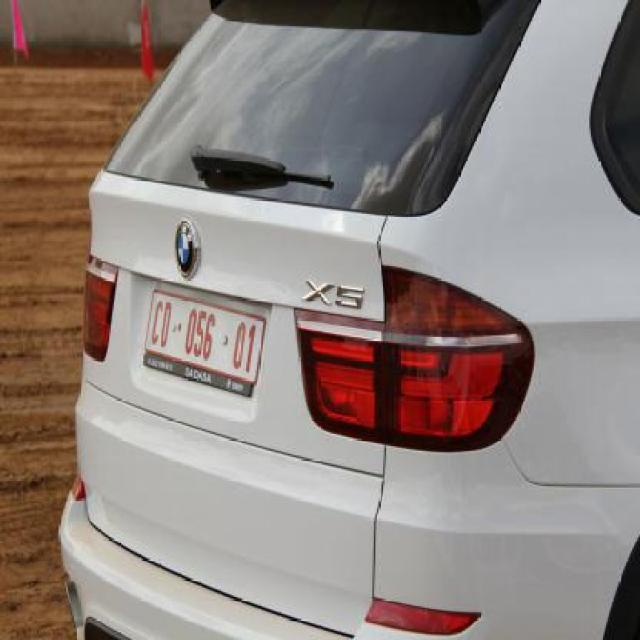License-Plates: (143, 289, 267, 398)
